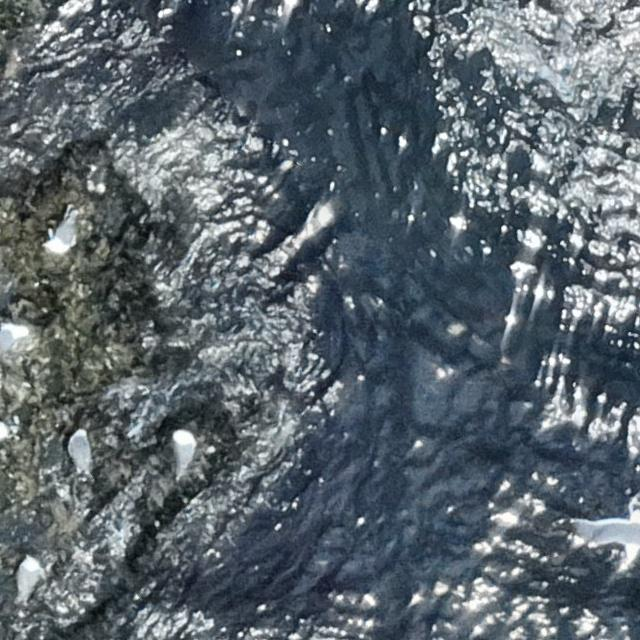F: (577, 514, 640, 553)
umineko: (69, 426, 93, 480), (16, 554, 40, 604), (48, 213, 77, 254), (3, 320, 32, 351), (174, 432, 193, 472)
